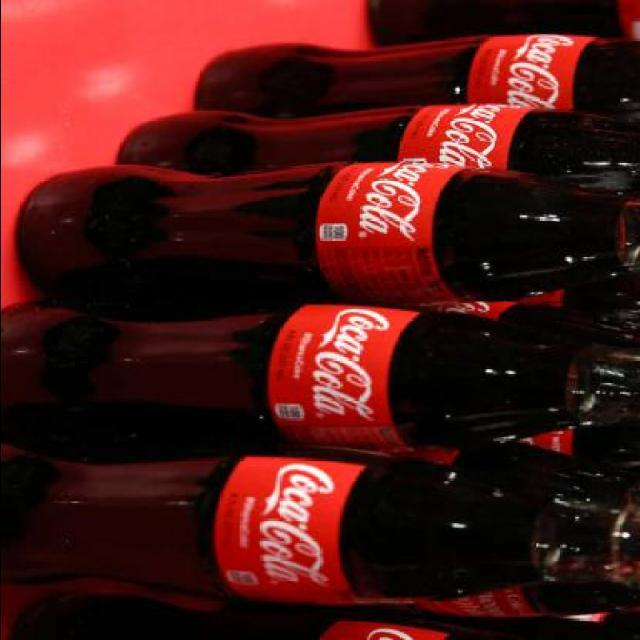Coke: (1, 449, 633, 605), (1, 300, 639, 451), (15, 157, 638, 306), (1, 305, 639, 447)
